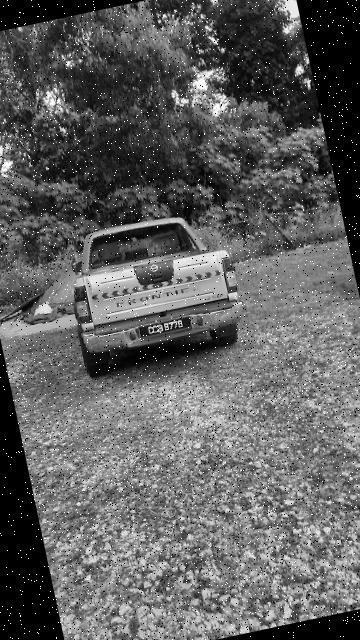License_Plate: (138, 314, 196, 343)
car: (58, 201, 253, 381)
